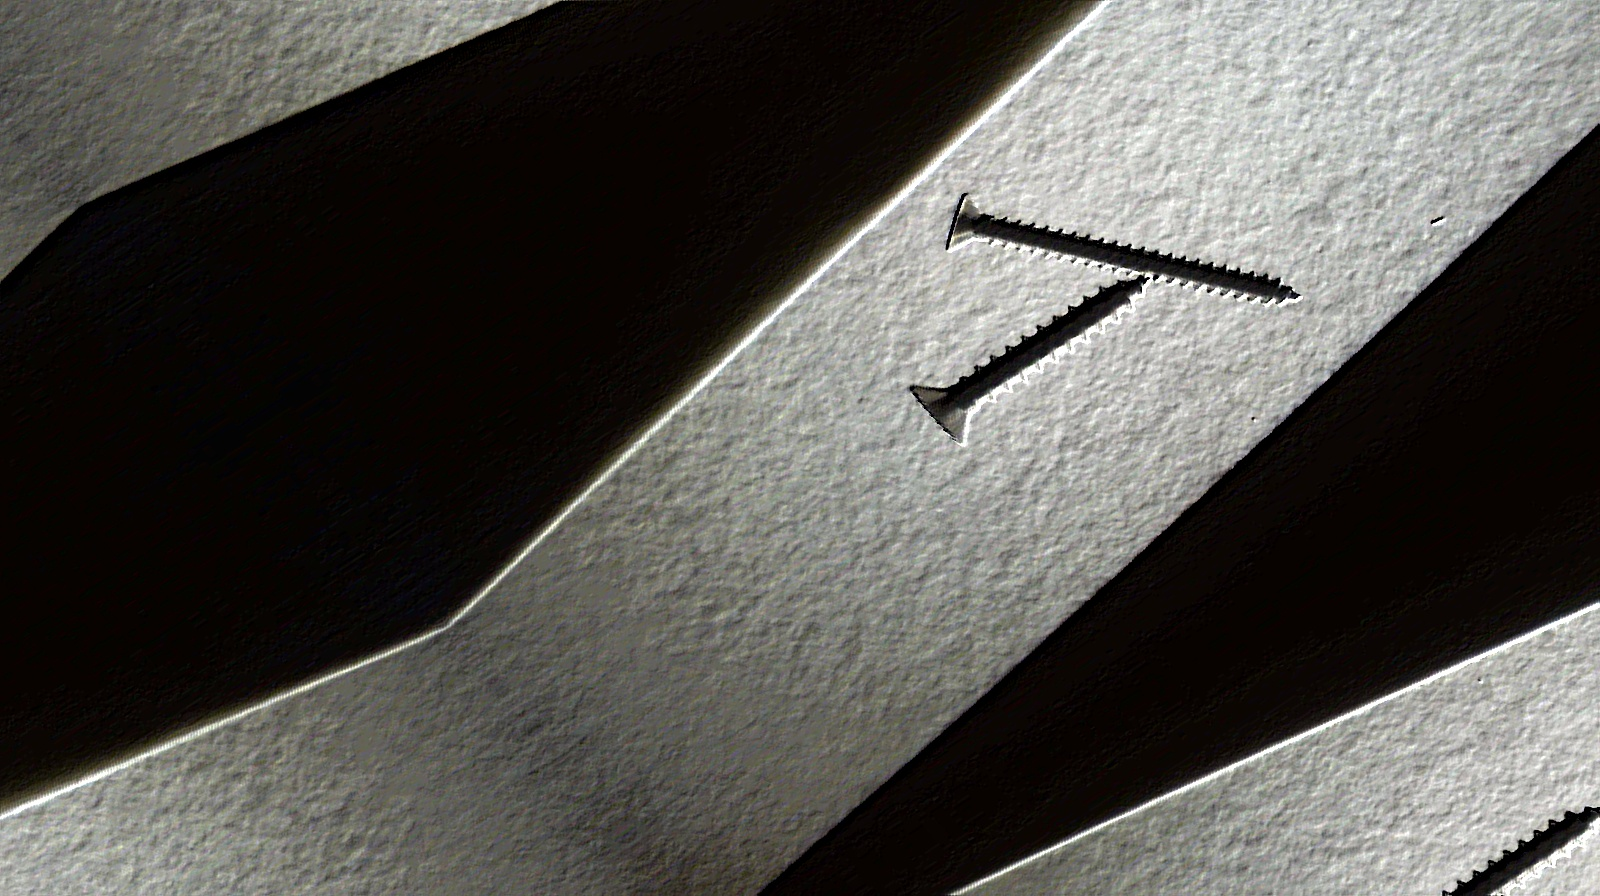S001: (892, 242, 1185, 458)
S002: (921, 82, 1314, 429)
